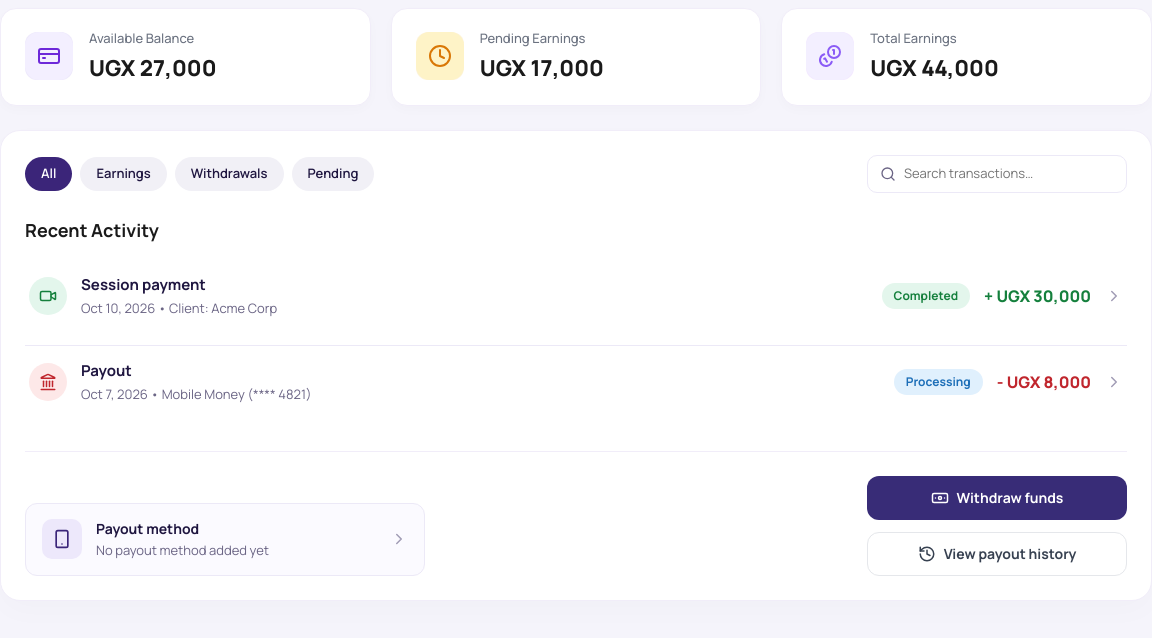
it: InterpreterWalletPage › with payments live › says when there is not enough in the wallet, and keeps the form open
Click the button "Withdraw funds" at [997, 498], box x1=867 y1=476 x2=1127 y2=520
(page scrolled)
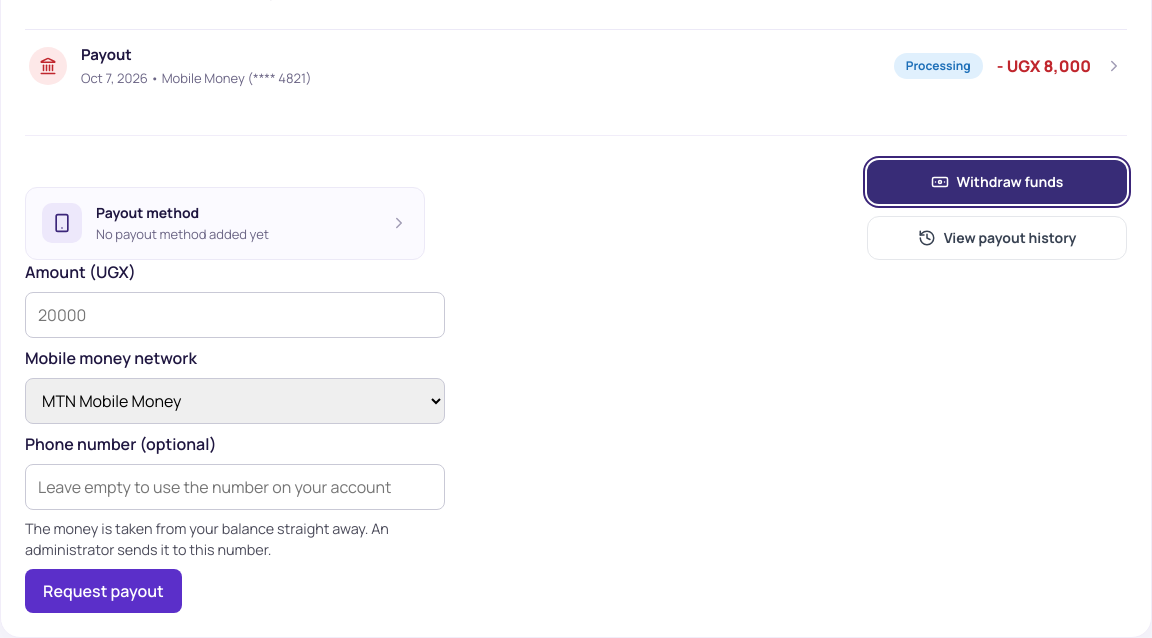
Type "900000" into the field labelled "Amount (UGX)" at [235, 314], box x1=25 y1=292 x2=445 y2=338
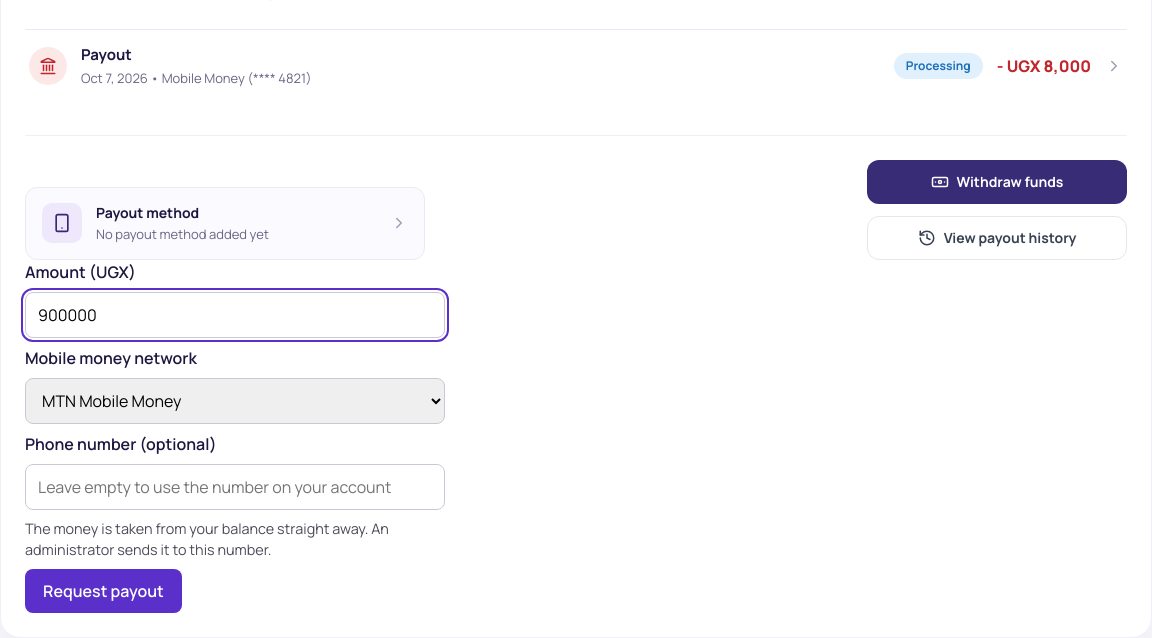
Click the button "Request payout" at [103, 591], box x1=25 y1=569 x2=182 y2=613
(page scrolled)
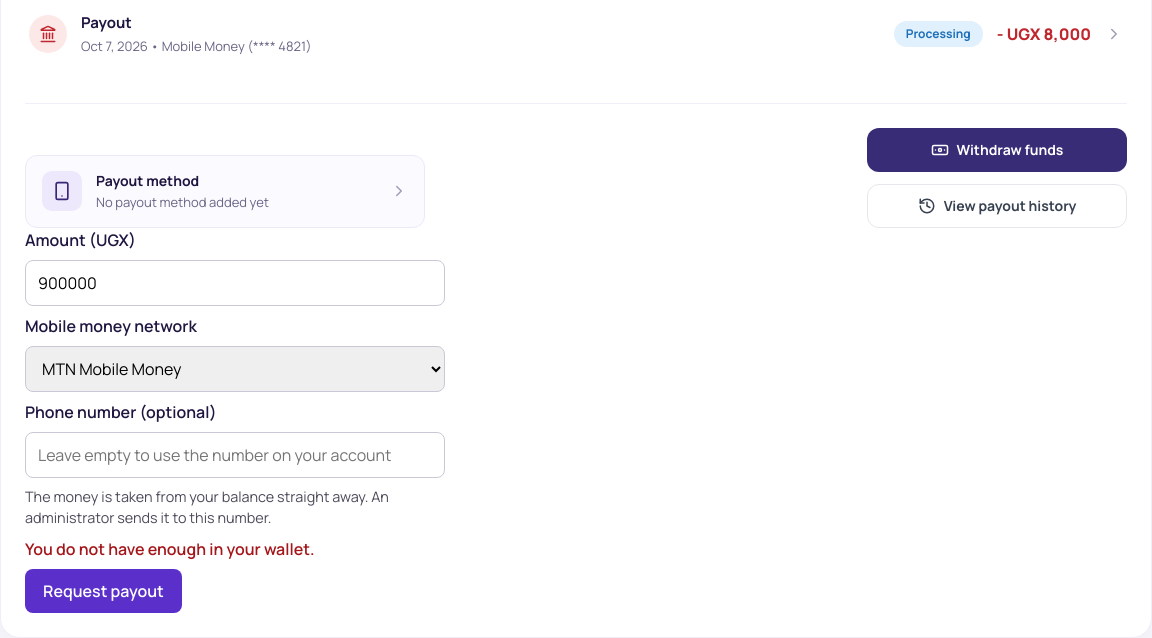
Expected: the button "Request payout" is enabled, x1=25 y1=569 x2=182 y2=613
Expected: the text "You do not have enough in your wallet." is shown, x1=25 y1=538 x2=314 y2=560
